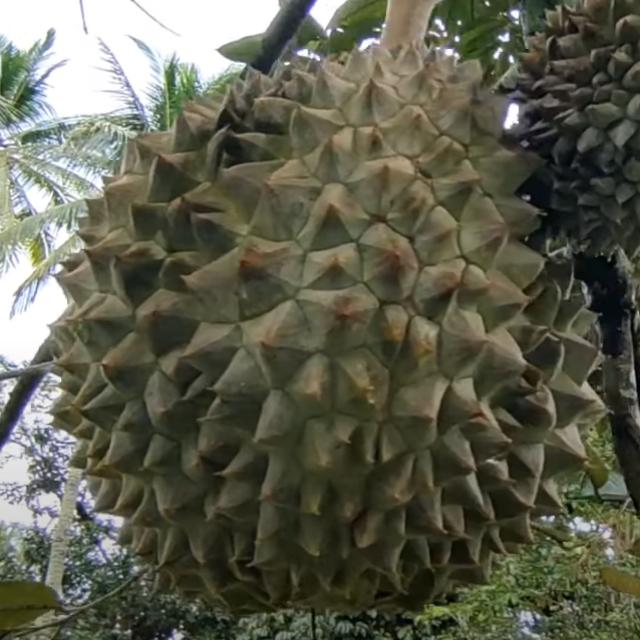immature: (38, 33, 618, 624)
